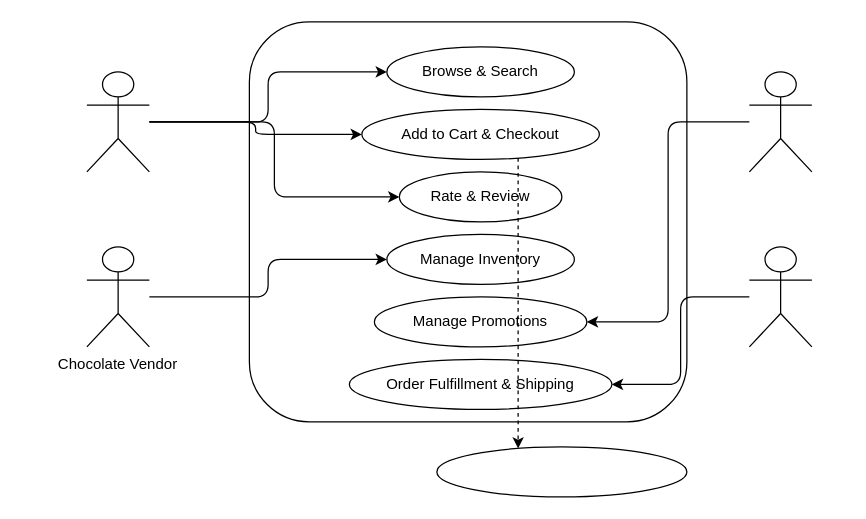
Some shapes in this 866 by 519 pixel diagram are drawn without their labels. Each missing label, with the box of its shape:
Chocolate Lover (Consumer): (86, 71, 149, 172)
Logistics Manager: (748, 246, 812, 347)
Marketing Manager: (748, 71, 812, 172)
Payment Gateway (External): (436, 446, 687, 497)
